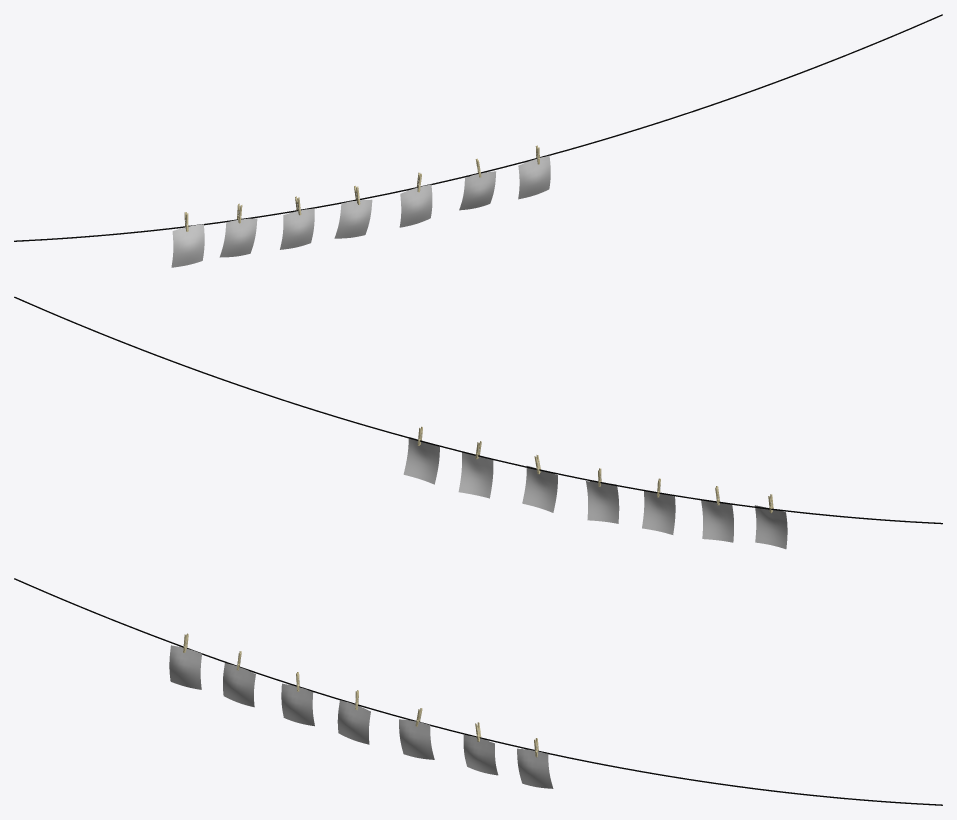
File: elrond-mafia-photo.glb
3 views of the same model, one above another, from view 1: azimuth 30°, elevation 25°; view 2: azimuth 150°, elevation 25°; view 3: azimuth 330°, elevation 25° (orthographic).
Parts seen in each view (by area): view 1: Catenary, team-photo7, team-photo6, team-photo2, team-photo1, team-photo3, team-photo5, team-photo4; view 2: Catenary, team-photo4, team-photo3, team-photo1, team-photo5, team-photo2, team-photo6, team-photo7; view 3: Catenary, team-photo7, team-photo3, team-photo5, team-photo1, team-photo2, team-photo6, team-photo4.
Part boxes in pixels (x1,y1,x2,y2): Catenary: (14,14,942,241); team-photo7: (171,224,204,267); team-photo6: (219,218,257,257); team-photo2: (334,199,372,238); team-photo1: (280,208,314,249); team-photo3: (399,184,432,227); team-photo5: (518,155,550,199); team-photo4: (459,171,496,210); Catenary: (14,296,942,524); team-photo4: (458,452,493,498); team-photo3: (522,466,557,512); team-photo1: (642,491,675,534); team-photo5: (403,437,439,484); team-photo2: (586,481,619,523); team-photo6: (701,500,733,542); team-photo7: (755,505,787,549); Catenary: (14,578,942,805); team-photo7: (169,645,201,689); team-photo3: (399,719,434,759); team-photo5: (517,748,553,788); team-photo1: (281,683,314,726); team-photo2: (337,700,370,744); team-photo6: (223,663,255,707); team-photo4: (463,735,498,775).
Size of the model in its own units: 23.74 by 2.04 by 0.337.
